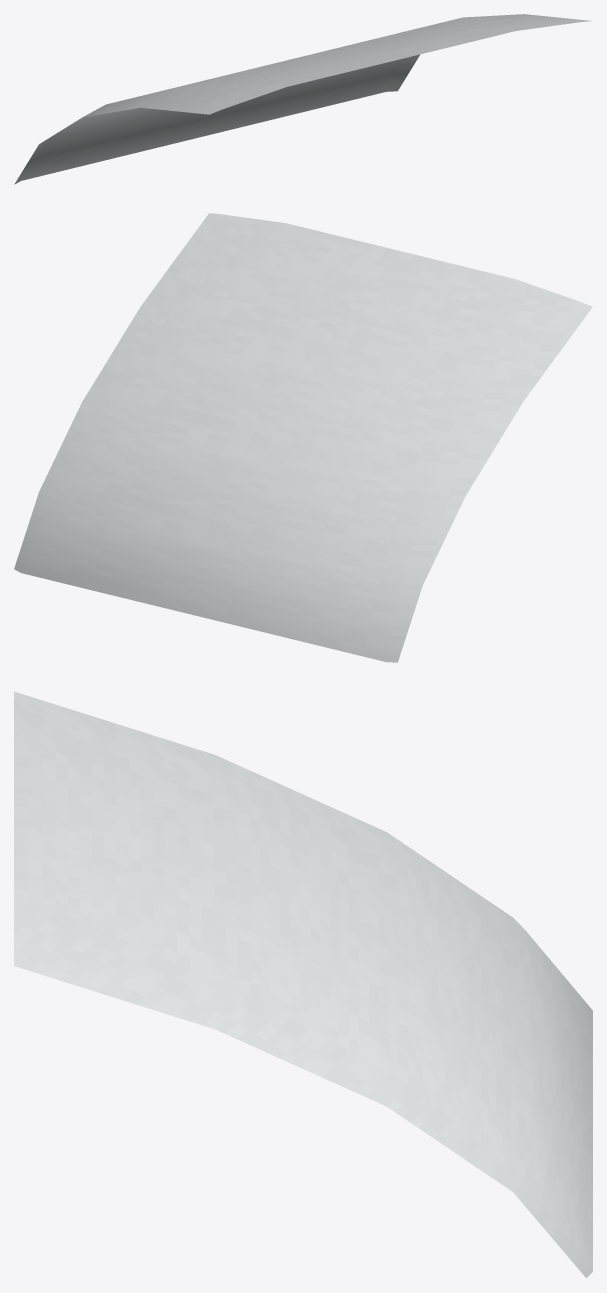
The model's file is spheroid_medium_2_2_0.obj.
The picture shows the model from 3 angles, top to bottom: view 1: azimuth 30°, elevation 25°; view 2: azimuth 150°, elevation 25°; view 3: azimuth 270°, elevation 25°; orthographic projection. The views are drawn at different scales.
Parts seen in each view (by area): view 1: spheroid_medium_2_2_0; view 2: spheroid_medium_2_2_0; view 3: spheroid_medium_2_2_0.
Part boxes in pixels (x1,y1,x2,y2): spheroid_medium_2_2_0: [14, 14, 591, 184]; spheroid_medium_2_2_0: [14, 213, 592, 662]; spheroid_medium_2_2_0: [14, 691, 592, 1278].
Bounding box in the file's own units: 3 × 1.66 × 2.67.
